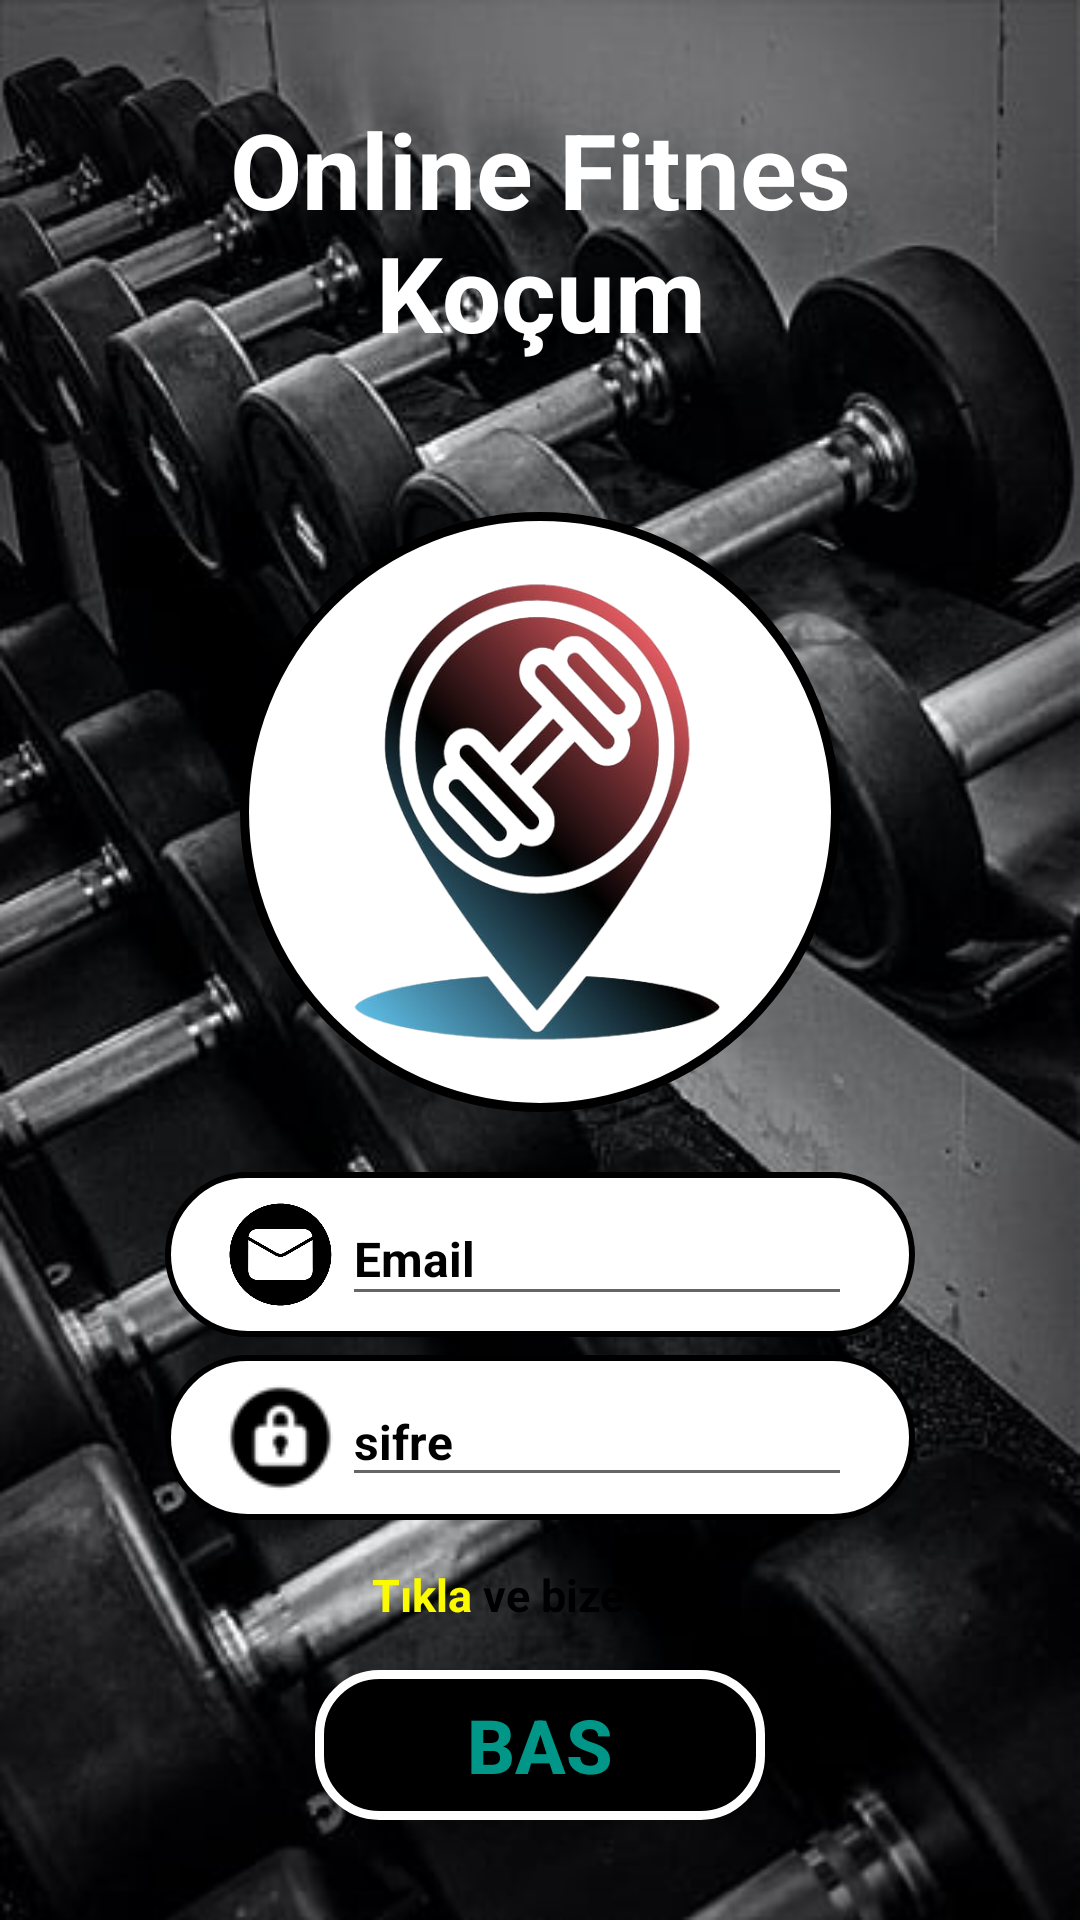

Icon bounding boxes for this 1080px×1920px phone screenshot, format (x1, y1, x2, y2):
login password: (230, 1387, 331, 1488)
